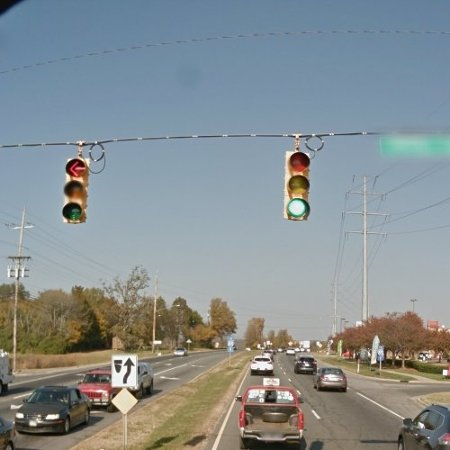汽車: (313, 210, 447, 450), (347, 1, 450, 91)
自行車: (154, 77, 303, 289)
